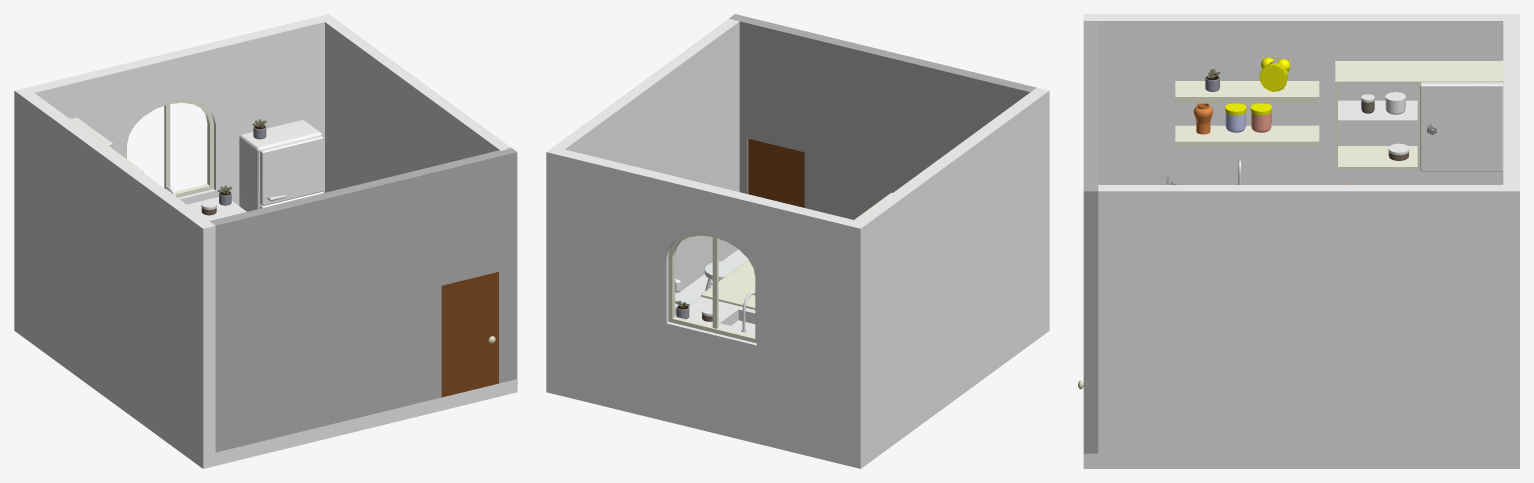
File: 第一场景.fbx
3 views of the same model, side by side, from view 1: azimuth 30°, elevation 25°; view 2: azimuth 150°, elevation 25°; view 3: azimuth 270°, elevation 25° (orthographic). The views are drawn at different scales.
Parts seen in each view (by area): view 1: polySurface76, polySurface91, pCube25, pCube27, polySurface87, polySurface86, polySurface77, polySurface68; view 2: polySurface76, polySurface91, pCube25, pCube27, polySurface77, pCube23, polySurface68, polySurface65; view 3: pCube25, polySurface76, pCube11, polySurface91, polySurface73, polySurface20, polySurface21, polySurface70, polySurface71, pasted__pasted__dier_ban_pCylinder24, pCylinder32, pCylinder31 (+1 smaller).
Part boxes in pixels (<box>): polySurface76: <box>14,14,517,468</box>; polySurface91: <box>209,147,517,452</box>; pCube25: <box>325,19,510,192</box>; pCube27: <box>441,272,498,397</box>; polySurface87: <box>260,136,323,205</box>; polySurface86: <box>239,120,322,211</box>; polySurface77: <box>125,100,213,197</box>; polySurface68: <box>187,197,246,220</box>; polySurface76: <box>546,87,1049,468</box>; polySurface91: <box>729,14,1036,219</box>; pCube25: <box>554,19,739,293</box>; pCube27: <box>748,138,804,207</box>; polySurface77: <box>668,233,756,343</box>; pCube23: <box>701,260,755,309</box>; polySurface68: <box>675,297,755,325</box>; polySurface65: <box>718,308,755,335</box>; pCube25: <box>1098,185,1503,453</box>; polySurface76: <box>1083,14,1519,468</box>; pCube11: <box>1420,82,1503,171</box>; polySurface91: <box>1083,21,1098,453</box>; polySurface73: <box>1335,61,1503,83</box>; polySurface20: <box>1175,125,1319,148</box>; polySurface21: <box>1175,81,1319,103</box>; polySurface70: <box>1335,60,1503,169</box>; polySurface71: <box>1338,100,1417,125</box>; pasted__pasted__dier_ban_pCylinder24: <box>1259,56,1290,91</box>; pCylinder32: <box>1250,103,1271,132</box>; pCylinder31: <box>1225,103,1246,132</box>.
Size of the model in its own units: 195 by 142 by 205.
